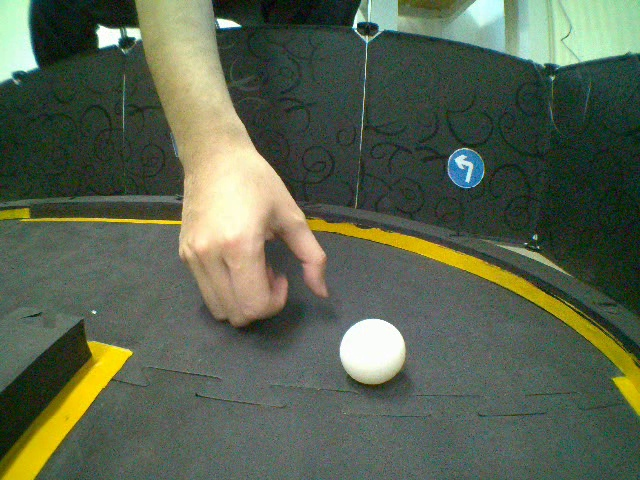ball: (338, 316, 413, 390)
